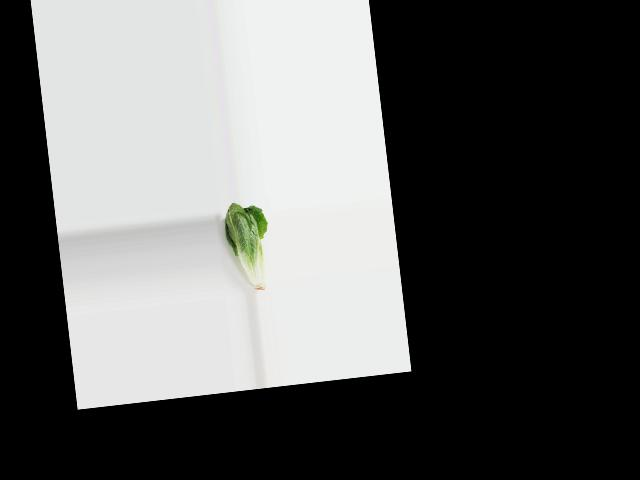lettuce: (219, 198, 276, 297)
